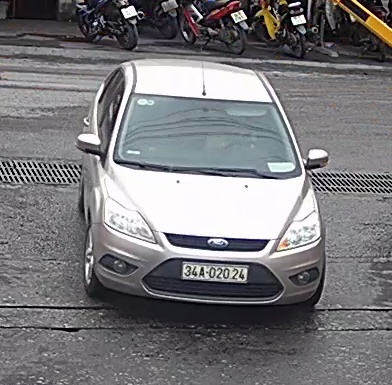vehicle plate: (180, 260, 250, 283)
